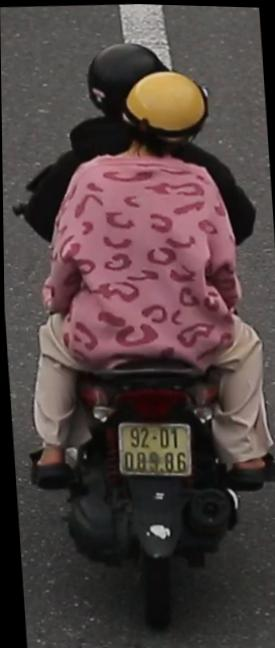LP: (108, 407, 201, 485)
helmet: (113, 65, 223, 178), (75, 31, 176, 118)
